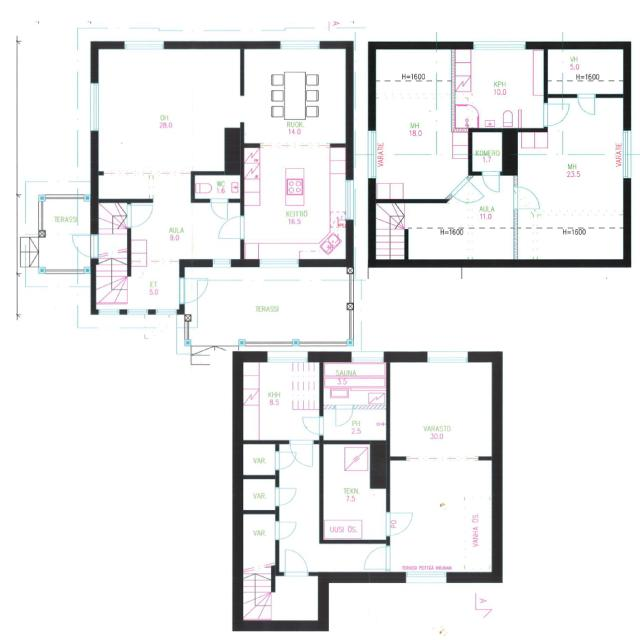door: (382, 506, 418, 540), (280, 545, 312, 578), (288, 436, 318, 470), (124, 200, 157, 230), (68, 230, 100, 259), (178, 275, 208, 305), (361, 542, 393, 570), (215, 214, 246, 242), (514, 184, 542, 212), (298, 411, 327, 437), (541, 100, 569, 126), (480, 168, 504, 196), (273, 483, 299, 507), (272, 448, 296, 472), (207, 197, 230, 221), (275, 518, 298, 542), (576, 92, 598, 116)
window: (399, 451, 484, 467), (396, 567, 455, 587), (85, 76, 104, 136), (420, 347, 474, 367), (252, 252, 305, 271), (341, 174, 359, 228), (364, 128, 381, 181), (260, 349, 314, 365), (120, 37, 172, 53), (470, 38, 529, 52), (98, 305, 152, 320), (622, 127, 636, 181), (274, 38, 325, 52), (346, 351, 387, 365), (42, 282, 75, 294), (150, 306, 180, 318), (208, 256, 235, 269), (96, 305, 123, 318)
zone: (93, 46, 240, 174), (240, 142, 350, 262), (514, 150, 627, 262), (386, 457, 494, 574), (374, 44, 455, 197), (388, 357, 495, 460), (240, 46, 349, 145), (373, 192, 519, 262), (451, 47, 545, 129), (238, 357, 322, 443), (130, 198, 238, 262), (322, 442, 383, 541), (321, 359, 389, 442), (544, 46, 628, 95), (94, 171, 194, 199), (241, 512, 277, 568), (469, 128, 507, 172), (237, 442, 278, 477), (192, 172, 243, 200), (238, 477, 276, 512)
